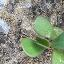Prickly Sida: (19, 0, 64, 64)
